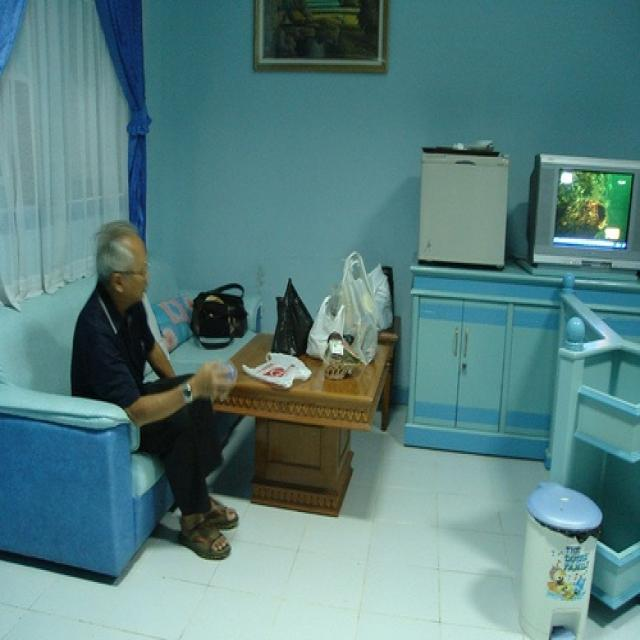sofa: (0, 253, 260, 575)
tvmonitor: (527, 150, 639, 273)
